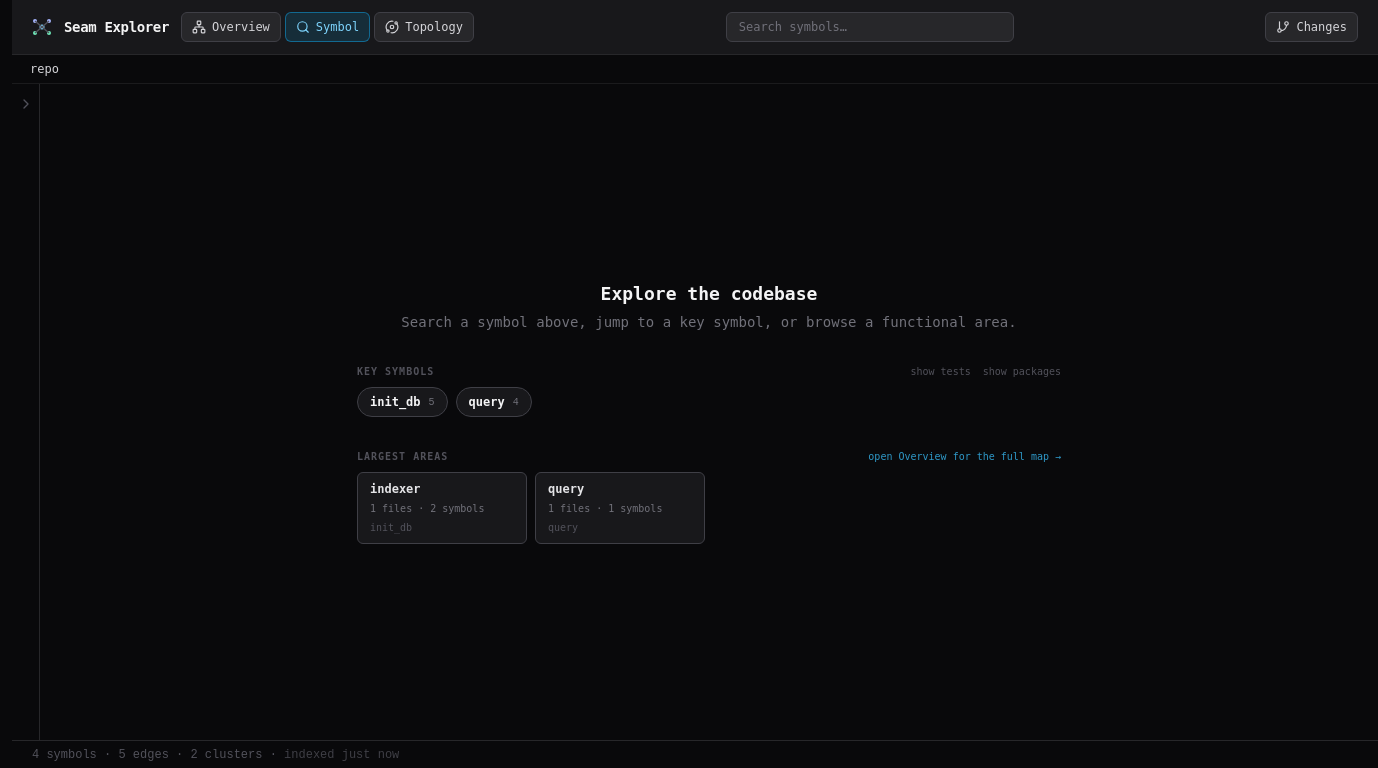
Test: LandingPage – folder-based area cards (B1) › L5: clicking an area card opens the Overview (landing disappears)
Expected: the text "indexer" is shown, [370,481,421,497]
Click the button with aria-label "explore area indexer". click: point(442, 508)
box: [357,472,527,544]
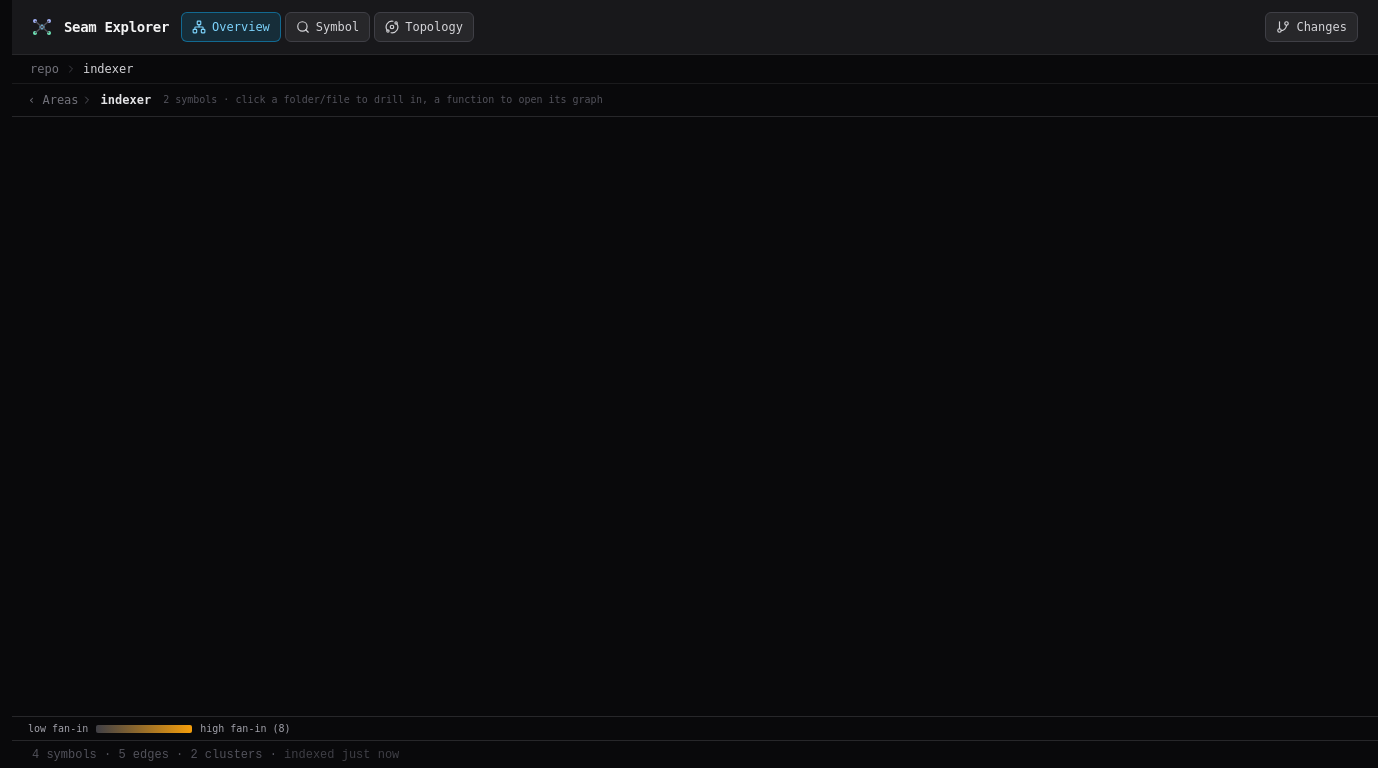
Expected: the heading "Explore the codebase" is gone
